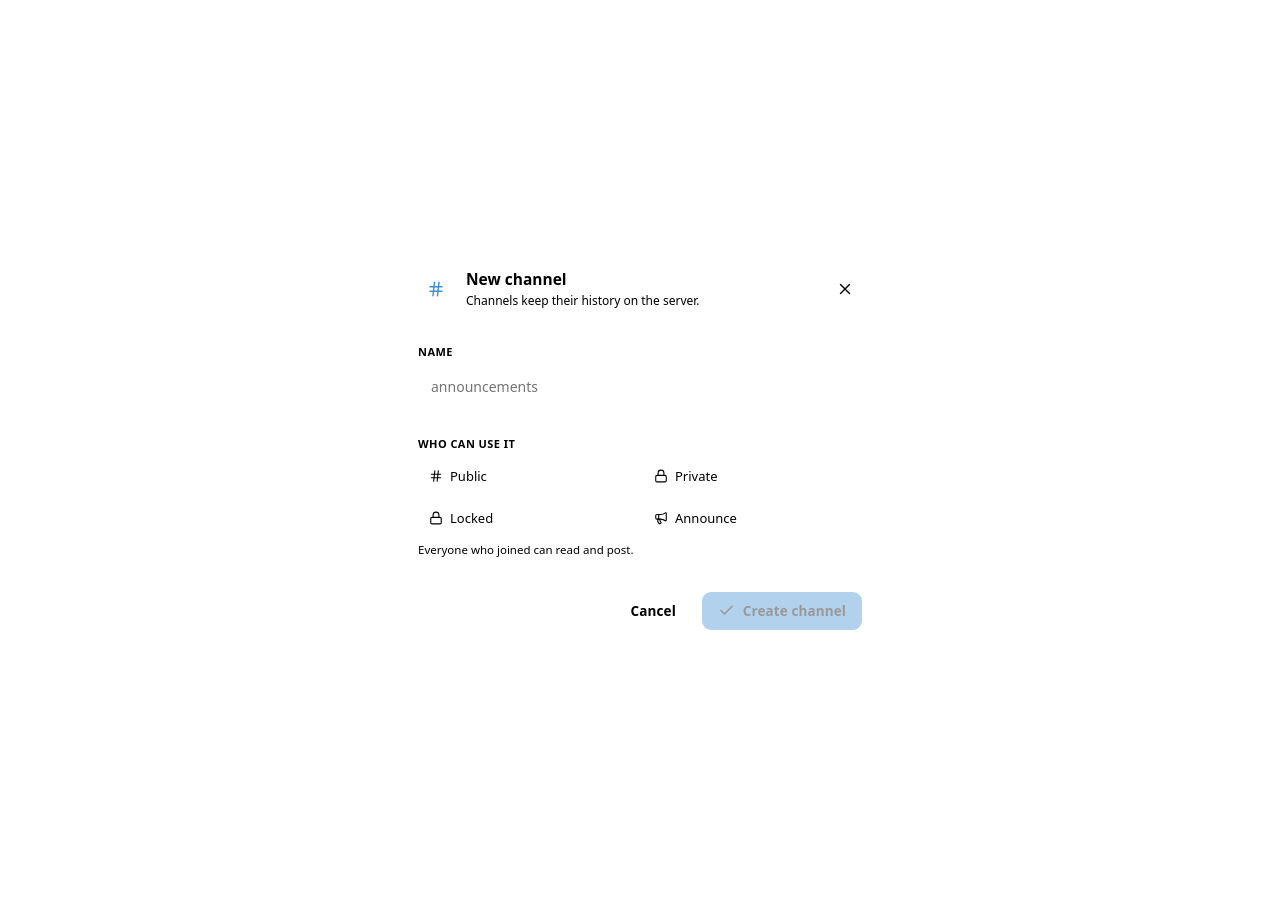
it: ChannelAccessDialog › only asks for a member list once the channel is private
The width and height of the screenshot is (1280, 900).
Check: the button "nova" is not shown
Click the button "Private" at point(752, 476), box [643,458,862,494]
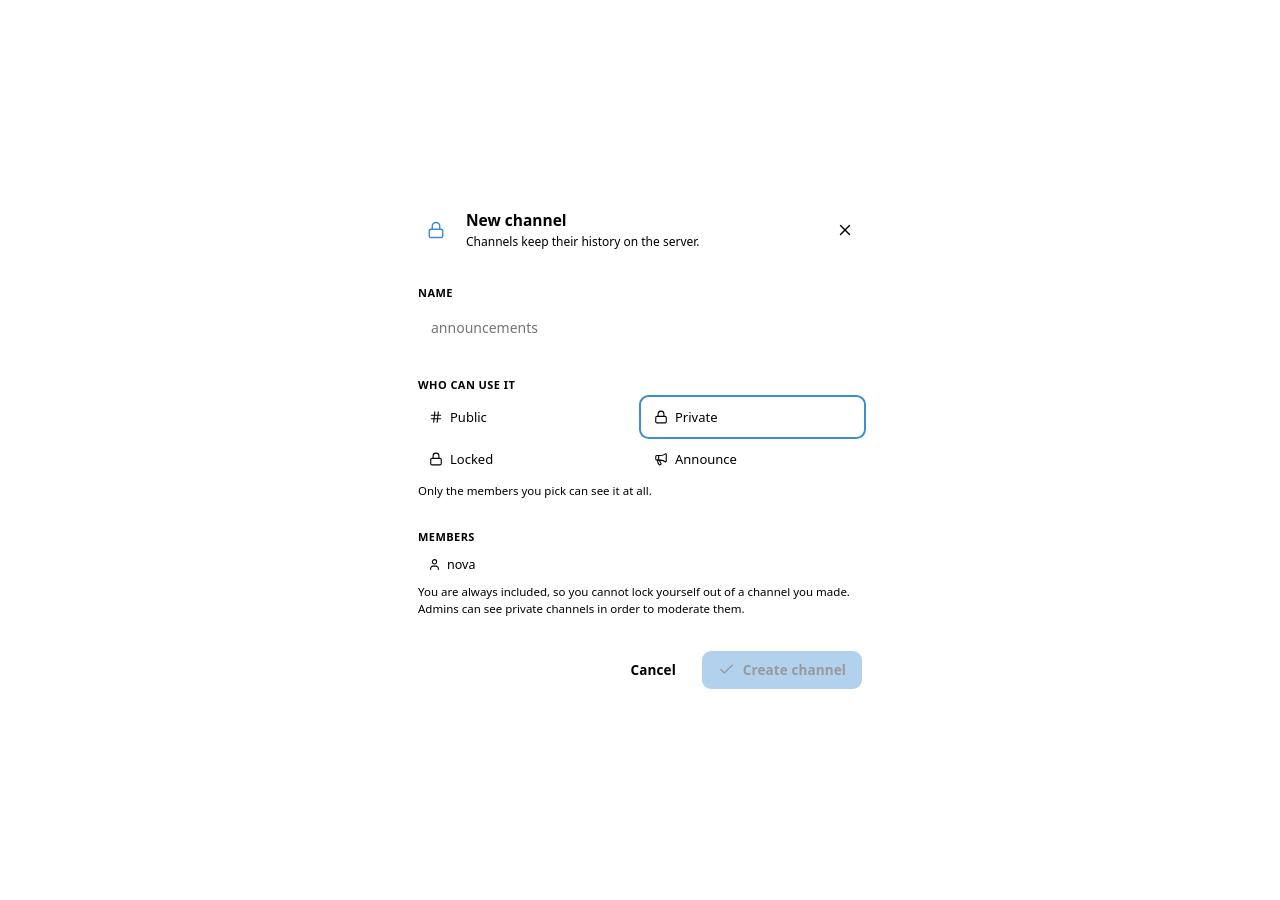
Check: the button "nova" is shown, box [418,552,485,578]
Check: the text "cannot lock yourself out" is shown, box [418,584,850,616]
